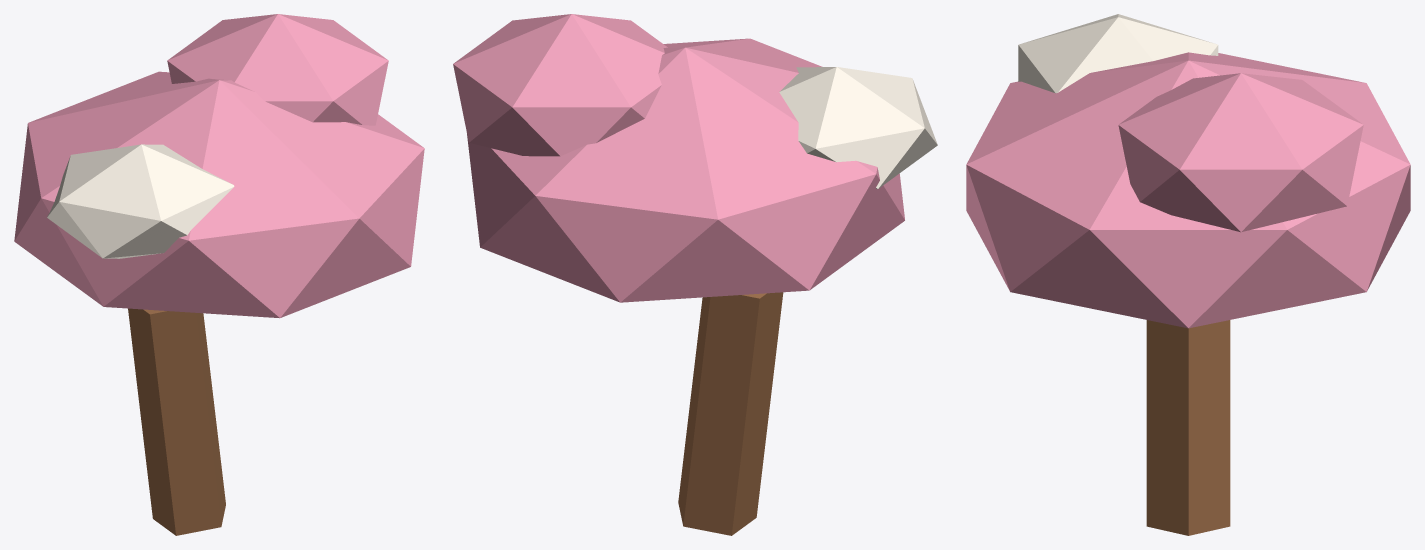
File: tree_sakura.glb
3 views of the same model, side by side, from view 1: azimuth 30°, elevation 25°; view 2: azimuth 150°, elevation 25°; view 3: azimuth 270°, elevation 25° (orthographic). The views are drawn at different scales.
Parts seen in each view (by area): view 1: tree_sakura; view 2: tree_sakura; view 3: tree_sakura.
Boxes of the visible parts, x1,y1,x2,y2 form: tree_sakura: (14, 14, 424, 535); tree_sakura: (453, 14, 937, 535); tree_sakura: (966, 14, 1410, 535).
Size of the model in its own units: 0.27 by 0.3224 by 0.2535.
